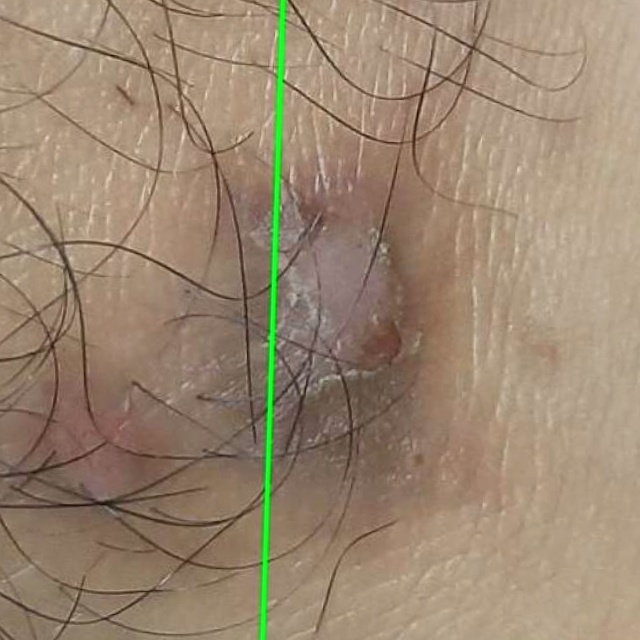Eczema: (262, 0, 639, 639)
